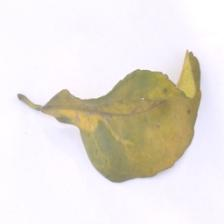greening: (14, 45, 205, 184)
